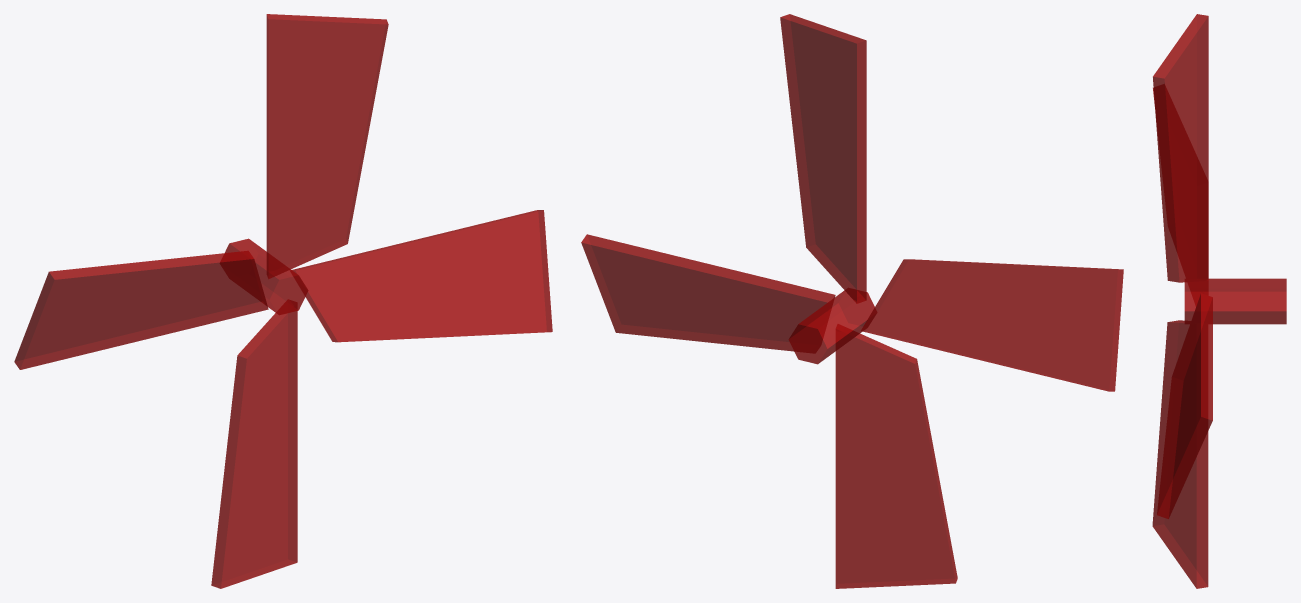
File: SM_Bld_Windmill_02_Blades_01_Collision.fbx
3 renders of one model, left to right at view 1: azimuth 30°, elevation 25°; view 2: azimuth 150°, elevation 25°; view 3: azimuth 270°, elevation 25°, orthographic.
Visible parts, largest first — view 1: SM_Bld_Windmill_02_Blades_01_Collision; view 2: SM_Bld_Windmill_02_Blades_01_Collision; view 3: SM_Bld_Windmill_02_Blades_01_Collision.
Boxes of the visible parts, left/top/right/bottom form: SM_Bld_Windmill_02_Blades_01_Collision: left=14, top=14, right=552, bottom=588; SM_Bld_Windmill_02_Blades_01_Collision: left=581, top=14, right=1123, bottom=588; SM_Bld_Windmill_02_Blades_01_Collision: left=1152, top=14, right=1286, bottom=588.
Bounding box in the file's own units: 948 × 948 × 205.
